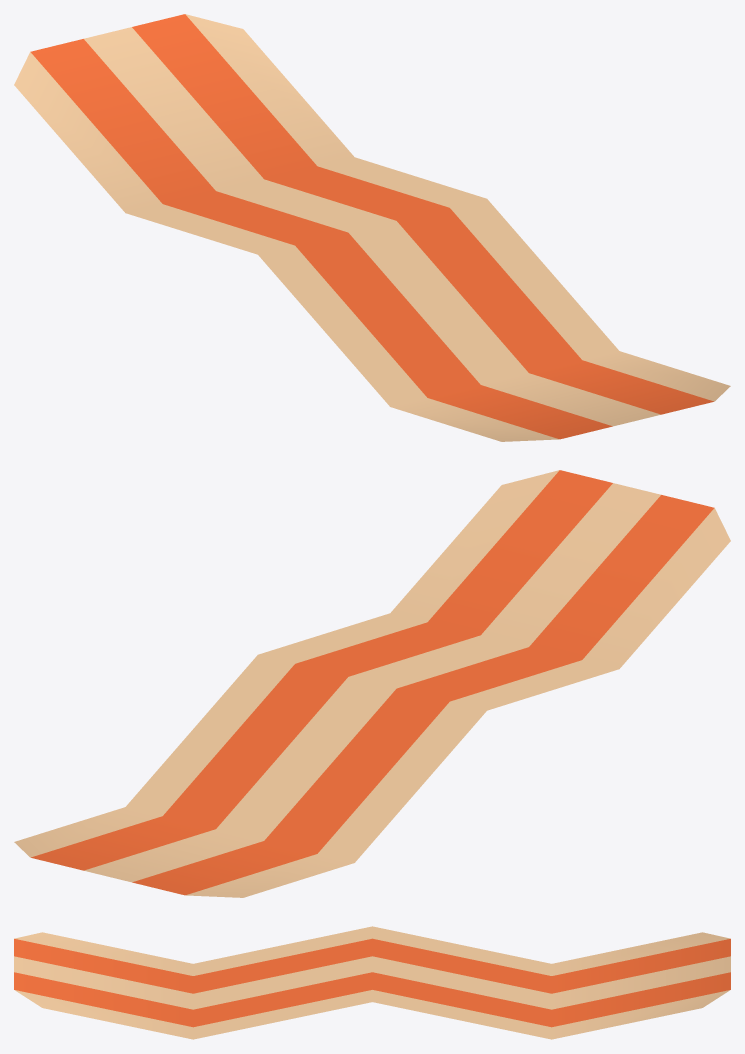
The model's file is baconRaw.obj.
3 renders of one model, top to bottom at view 1: azimuth 30°, elevation 25°; view 2: azimuth 150°, elevation 25°; view 3: azimuth 270°, elevation 25°, orthographic. The views are drawn at different scales.
Parts seen in each view (by area): view 1: baconRaw; view 2: baconRaw; view 3: baconRaw.
Boxes of the visible parts, left/top/right/bottom form: baconRaw: left=14, top=14, right=730, bottom=441; baconRaw: left=14, top=470, right=730, bottom=897; baconRaw: left=14, top=926, right=730, bottom=1039.
Size of the model in its own units: 0.13 by 0.03 by 0.52.
